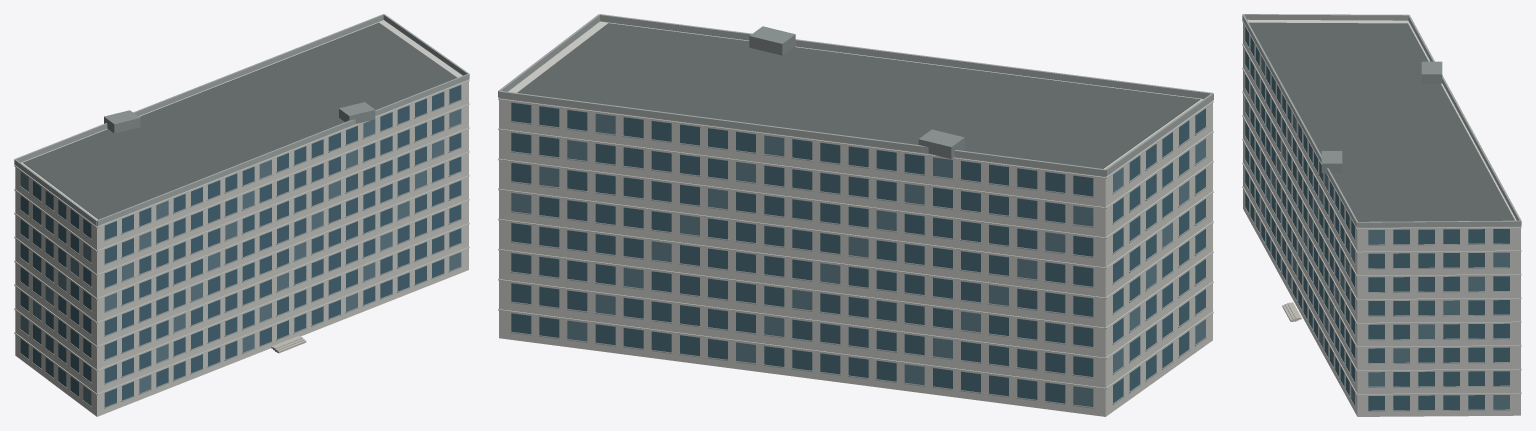
File: 东侧办公园区-016.glb
3 views of the same model, side by side, from view 1: azimuth 30°, elevation 25°; view 2: azimuth 150°, elevation 25°; view 3: azimuth 270°, elevation 25° (orthographic). The views are drawn at different scales.
Parts seen in each view (by area): view 1: 东侧办公园区-016; view 2: 东侧办公园区-016; view 3: 东侧办公园区-016.
Boxes of the visible parts, <box> form: 东侧办公园区-016: <box>14,14,469,416</box>; 东侧办公园区-016: <box>498,14,1213,416</box>; 东侧办公园区-016: <box>1242,14,1521,416</box>.
Bounding box in the file's own units: 66.07 × 29.42 × 37.39.
